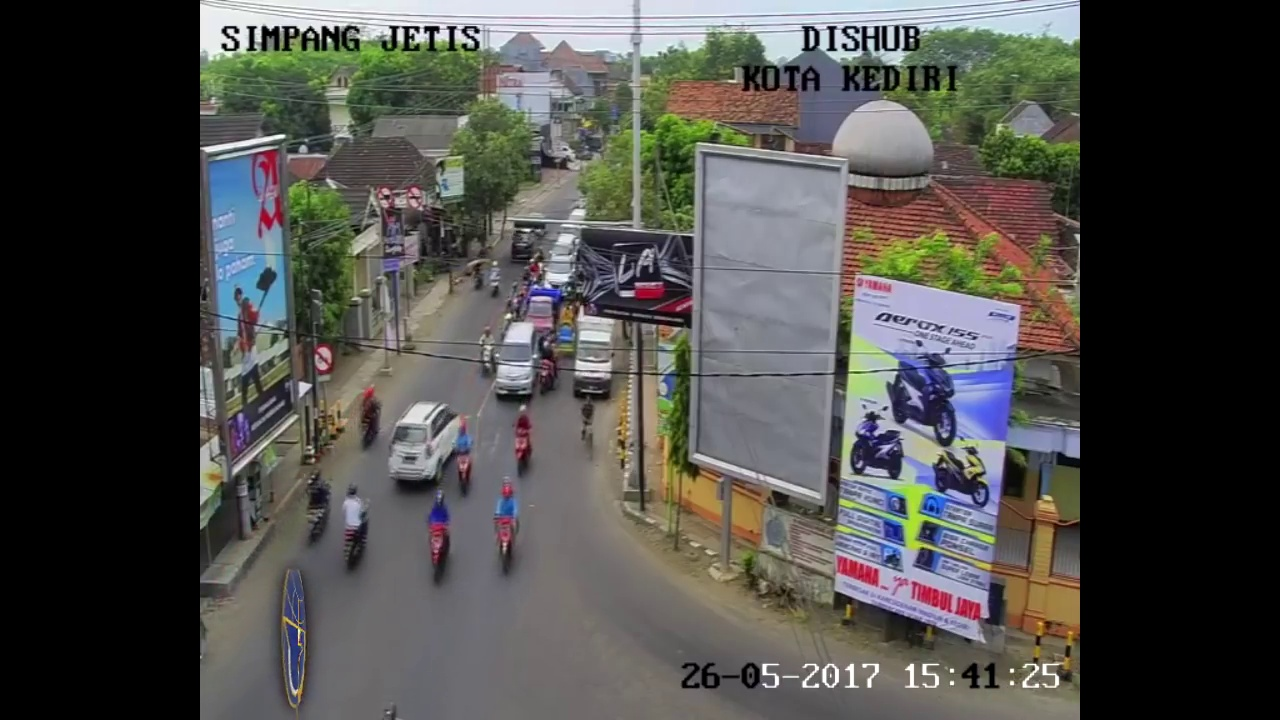car: (387, 402, 463, 486), (494, 323, 536, 401), (575, 316, 612, 401), (525, 294, 556, 343), (545, 254, 573, 298), (512, 230, 535, 265)
motorbike: (344, 488, 373, 573), (427, 496, 451, 580), (493, 485, 517, 568), (307, 472, 330, 541), (360, 386, 381, 452), (455, 423, 474, 488), (516, 406, 532, 477), (538, 340, 556, 394), (480, 328, 495, 376), (470, 262, 483, 293), (490, 261, 500, 298)
